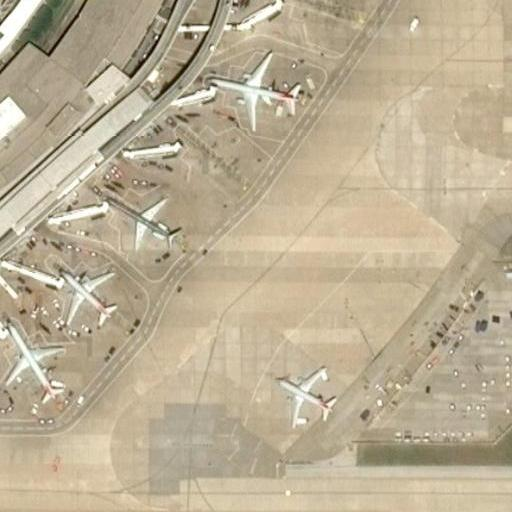Aircraft: (209, 47, 296, 128), (0, 328, 70, 405), (41, 264, 123, 325), (274, 359, 342, 432), (108, 189, 183, 255)
